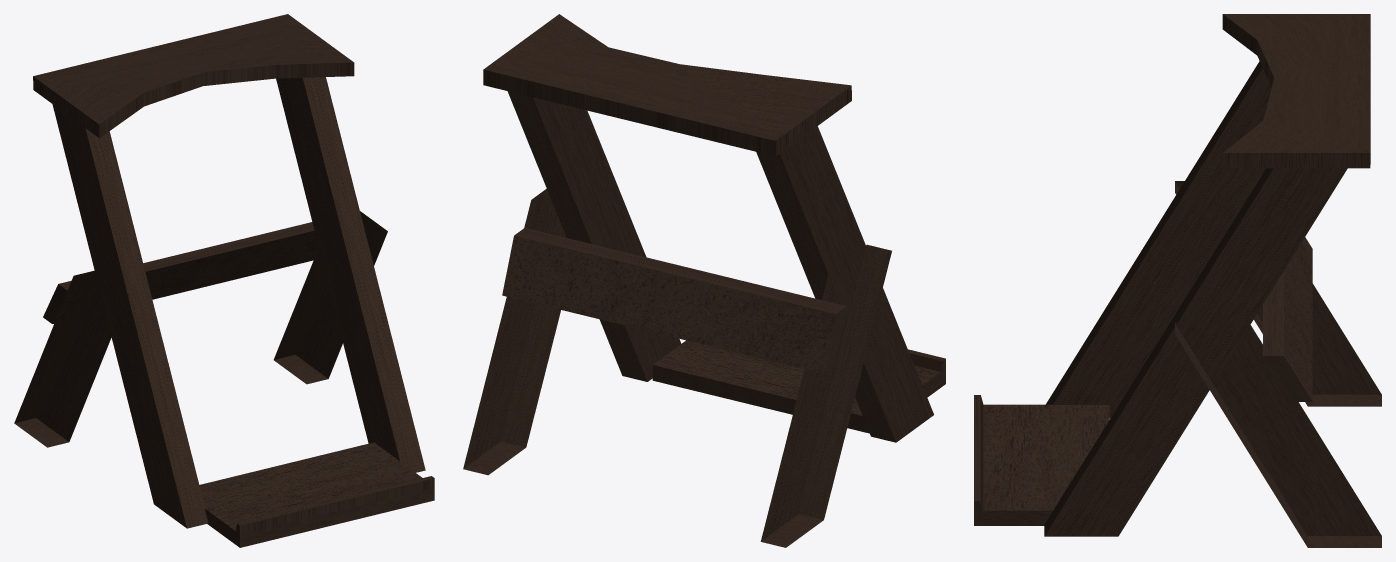
The model's file is bagstand.glb.
3 views of the same model, side by side, from view 1: azimuth 30°, elevation 25°; view 2: azimuth 150°, elevation 25°; view 3: azimuth 270°, elevation 25° (orthographic). The views are drawn at different scales.
Visible parts, largest first — view 1: Cube, Cube.002, Plane, Cube.004, Cube.001, Cube.005, Cube.003; view 2: Cube.005, Plane, Cube, Cube.001, Cube.002, Cube.003, Cube.004; view 3: Cube.002, Cube, Plane, Cube.003, Cube.004, Cube.005, Cube.001.
Part boxes in pixels (<box>): Cube: <box>52,104,208,528</box>; Cube.002: <box>276,77,425,472</box>; Plane: <box>33,14,354,138</box>; Cube.004: <box>199,442,434,547</box>; Cube.001: <box>14,270,128,447</box>; Cube.005: <box>43,222,321,323</box>; Cube.003: <box>273,211,387,384</box>; Cube.005: <box>502,228,846,373</box>; Plane: <box>483,14,851,156</box>; Cube: <box>756,126,933,442</box>; Cube.001: <box>760,244,891,547</box>; Cube.002: <box>507,91,681,381</box>; Cube.003: <box>463,188,566,475</box>; Cube.004: <box>652,340,945,433</box>; Cube.002: <box>1044,168,1347,536</box>; Cube: <box>1046,61,1271,418</box>; Plane: <box>1222,14,1370,168</box>; Cube.003: <box>1175,322,1381,547</box>; Cube.004: <box>974,395,1109,525</box>; Cube.005: <box>1263,237,1312,401</box>; Cube.001: <box>1175,181,1381,406</box>.
Size of the model in its own units: 0.9181 by 1.1 by 1.02.
1 material, 1 textured.
